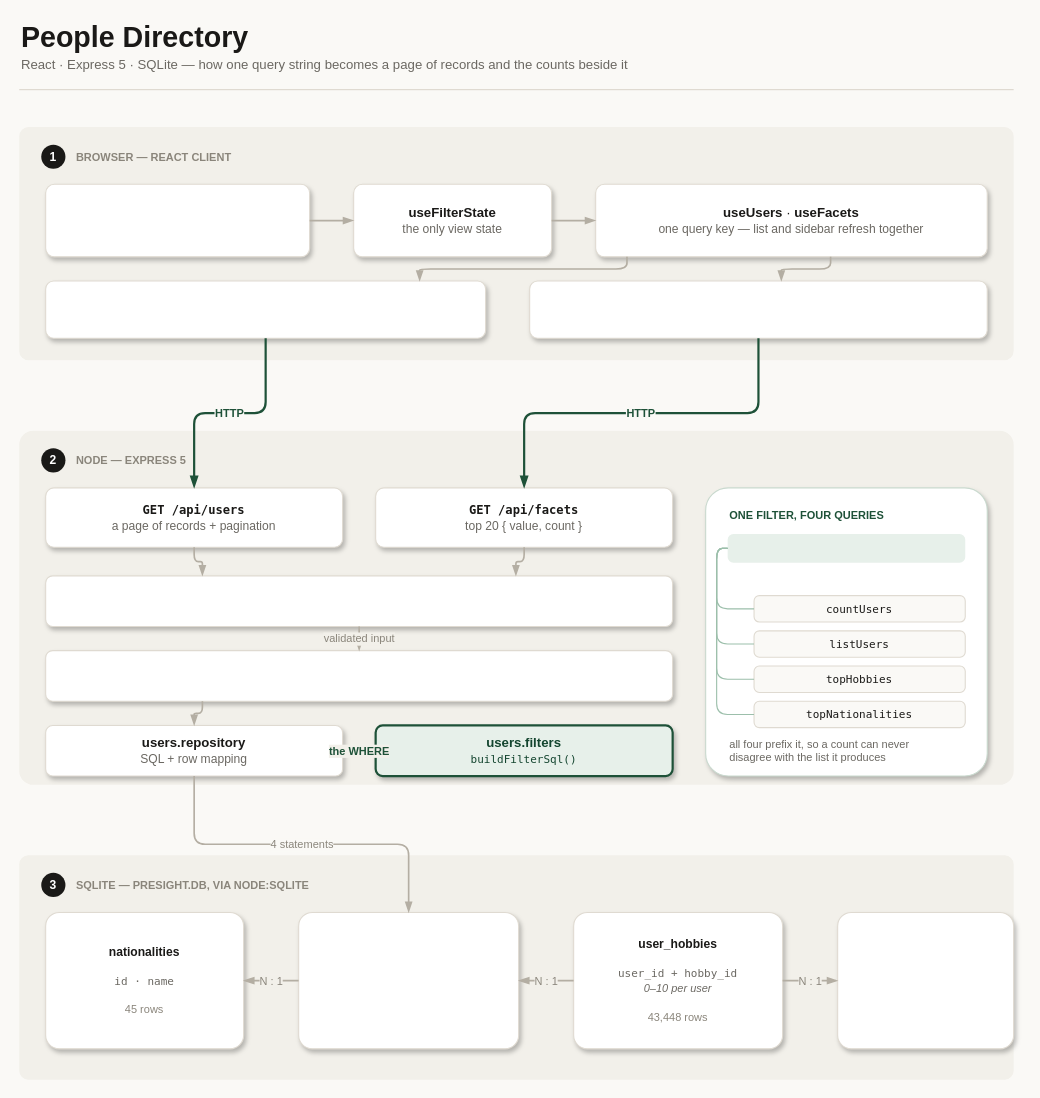
The diagram is 1040 pixels wide and 1098 high, and some of its shapes have lost their labels. The centre of each missing label's shape, as x and y in pixels:
FilterSidebar top 20 hobbies + nationalities, with counts: (759,311)
hobbies id · name 47 rows: (926,982)
URL query string ?q & nationalities & hobbies & sort & order: (178,222)
UserList virtualized — 18 rows in the DOM of 10,000: (266,311)
users id · avatar · age first_name · last_name *_lc · nationality_id 10,000 rows: (409,982)
users.controller zod parses the query string, or 400: (359,602)
users.service offset maths, hasMore, response shape: (359,677)
WITH matched AS ( … ): (846,548)
